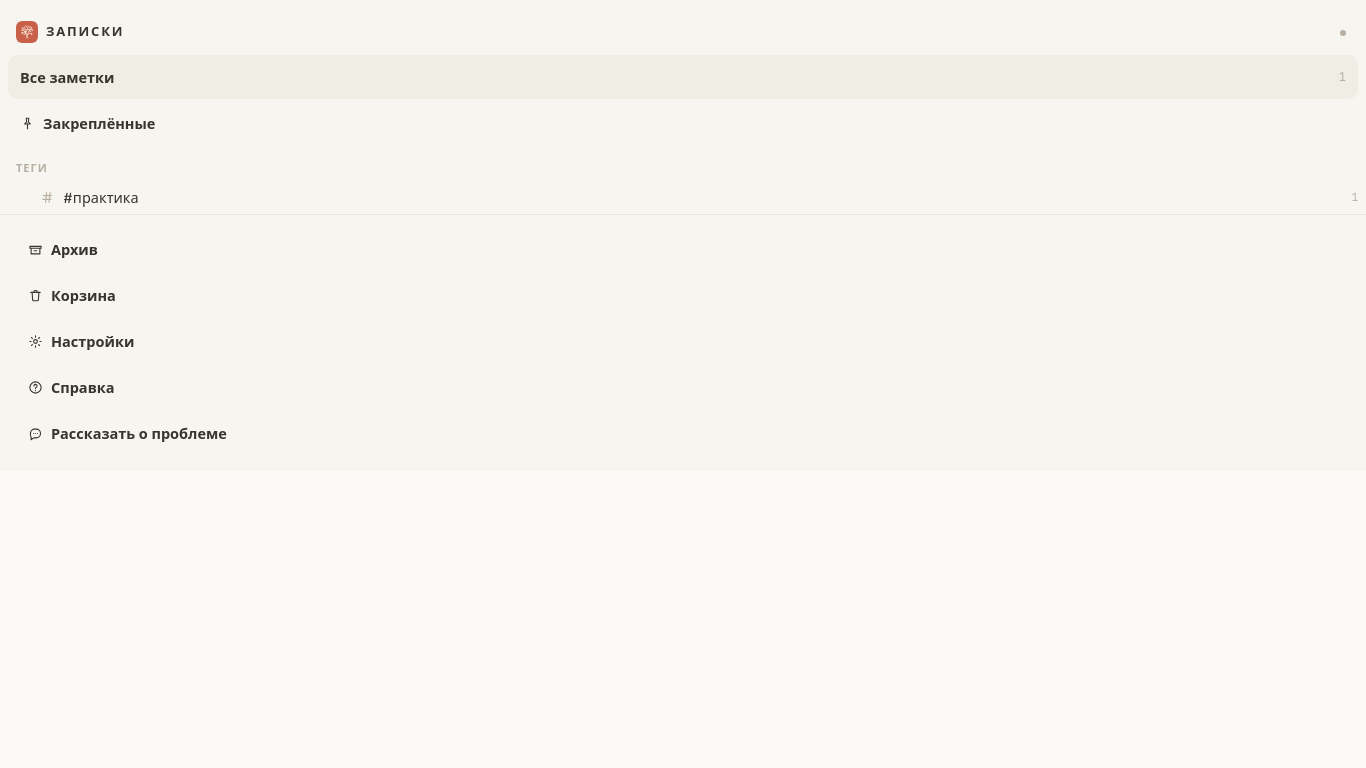
Test: меню тега открывается тем же жестом › пункт доводит до поля ввода с текущим именем тега
Right-click the list item: point(101, 198) x1=0 y1=180 x2=1365 y2=214
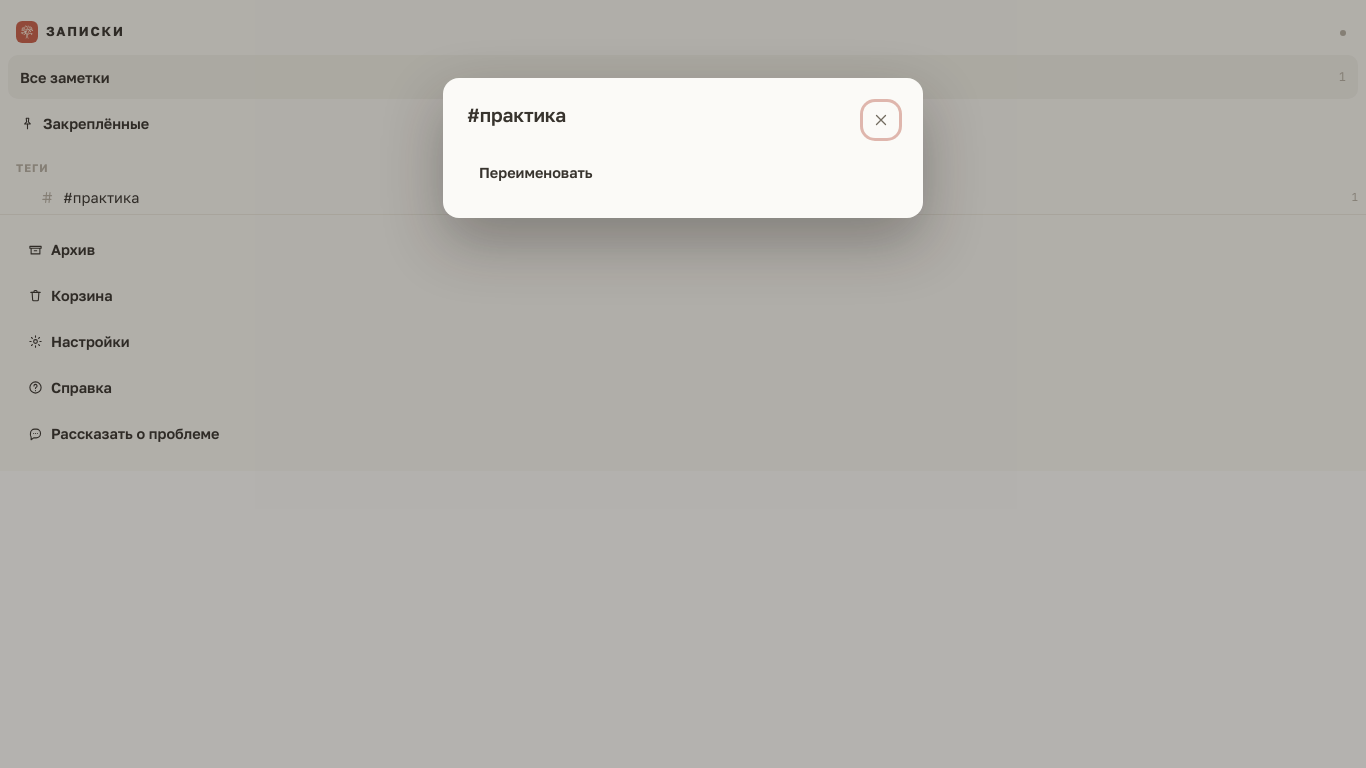
Click the menu item "Переименовать": point(536, 172) x1=467 y1=150 x2=899 y2=194
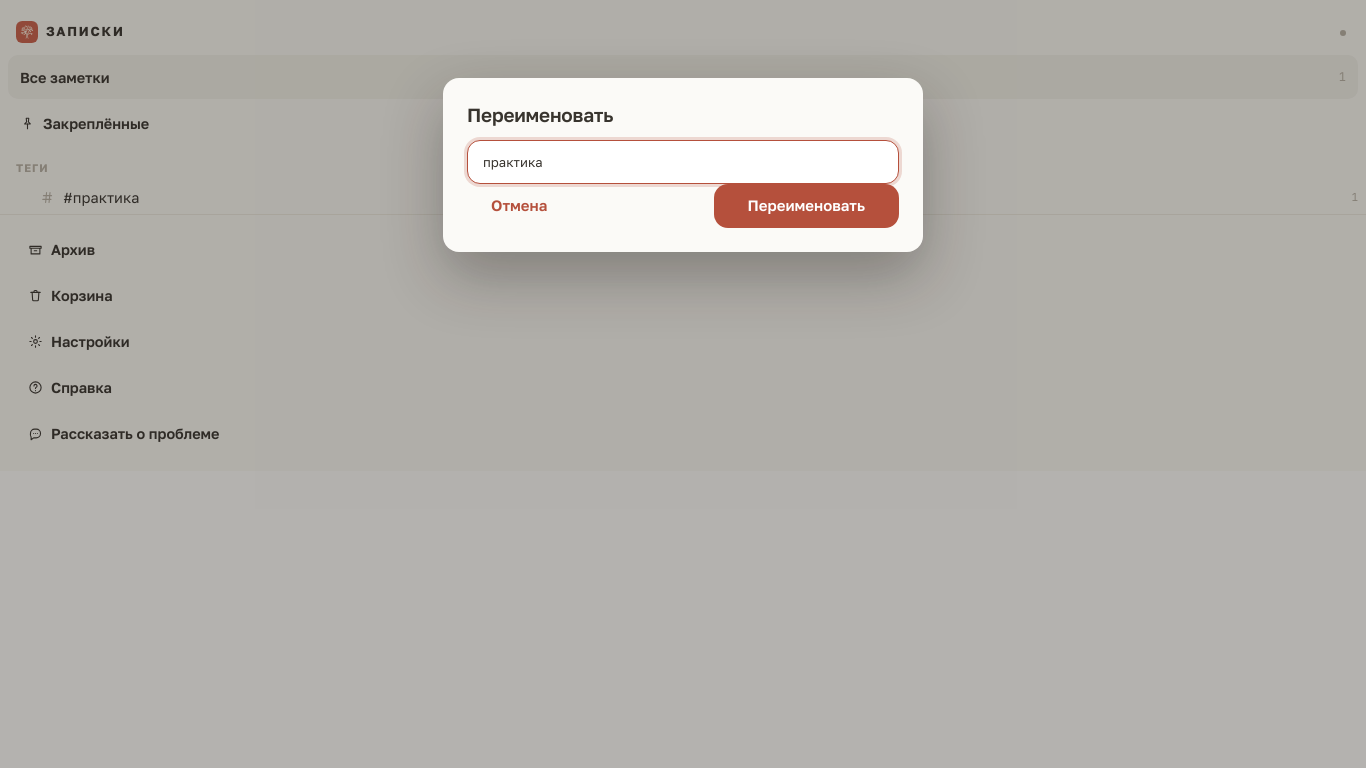
Check: the field named "Название папки" holds "практика", box x1=483 y1=153 x2=883 y2=171
